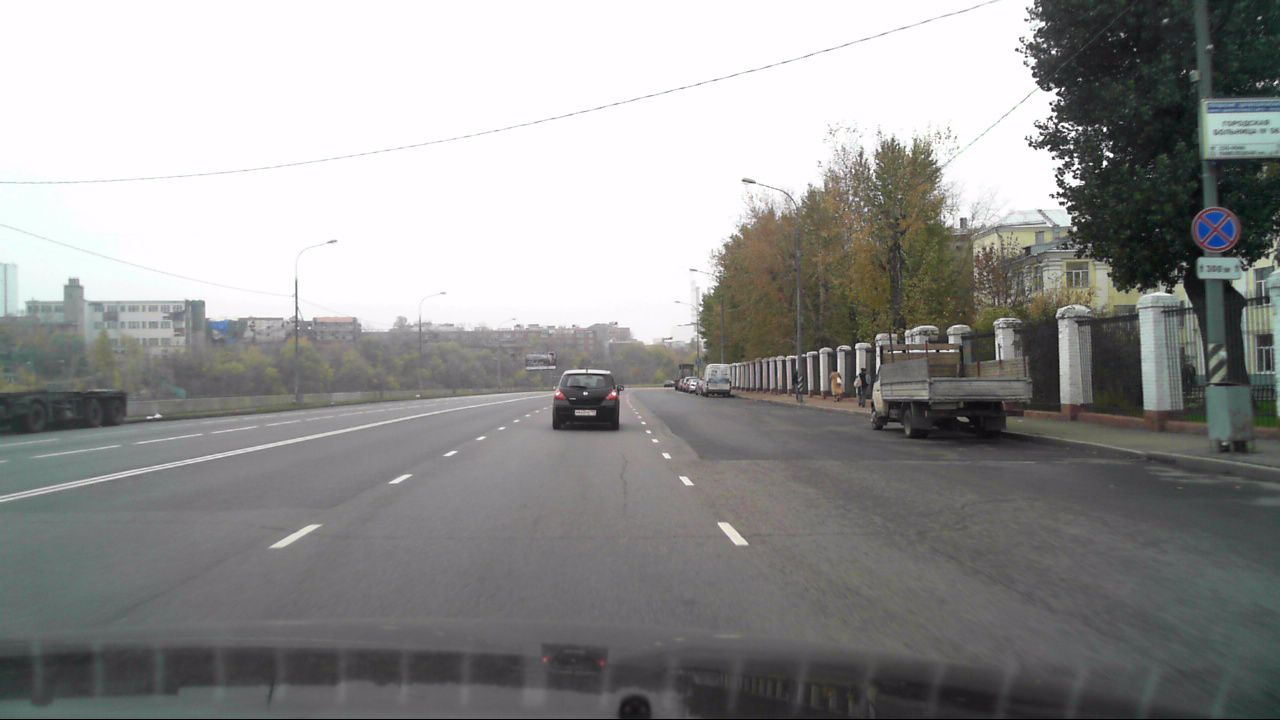No Parking: (1191, 205, 1238, 251)
